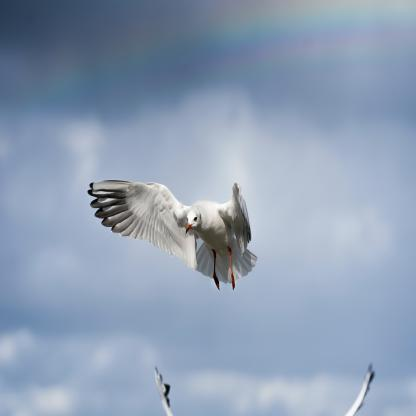bird: (88, 179, 258, 291)
